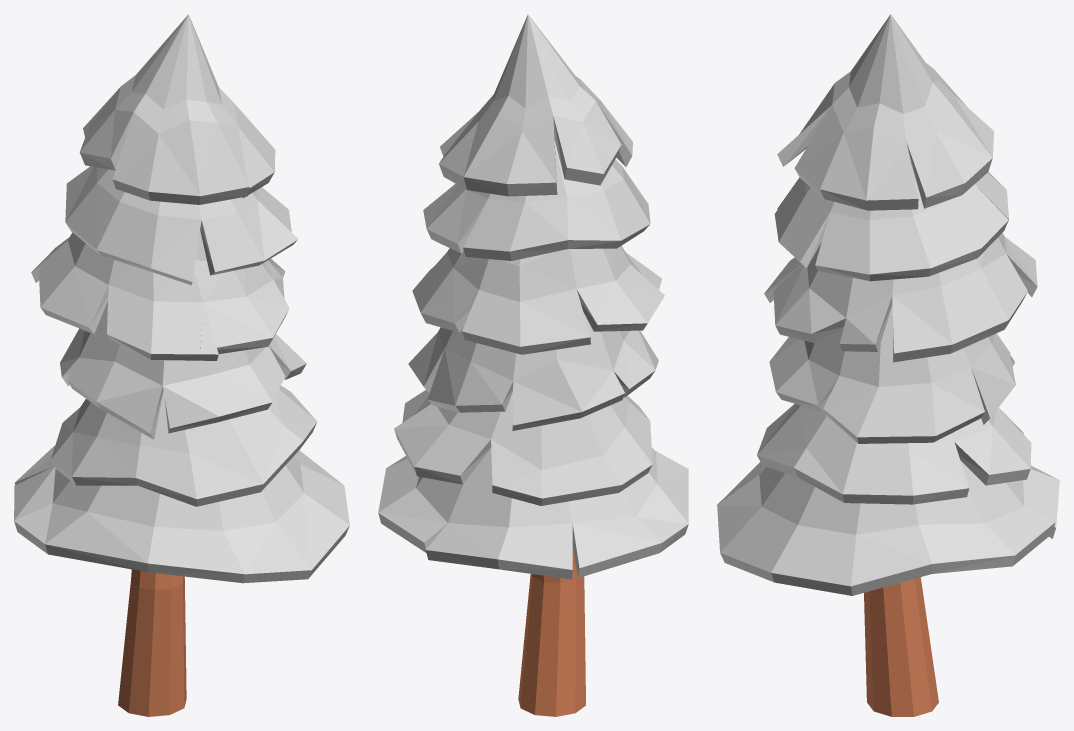
File: Tree_1.fbx
3 renders of one model, left to right at view 1: azimuth 30°, elevation 25°; view 2: azimuth 150°, elevation 25°; view 3: azimuth 270°, elevation 25°, orthographic. The views are drawn at different scales.
Parts seen in each view (by area): view 1: Tree_1; view 2: Tree_1; view 3: Tree_1.
Boxes of the visible parts, x1=… form: Tree_1: x1=14, y1=14, x2=349, y2=716; Tree_1: x1=378, y1=14, x2=688, y2=716; Tree_1: x1=717, y1=14, x2=1059, y2=716.
Size of the model in its own units: 1.73 by 3.89 by 1.72.
